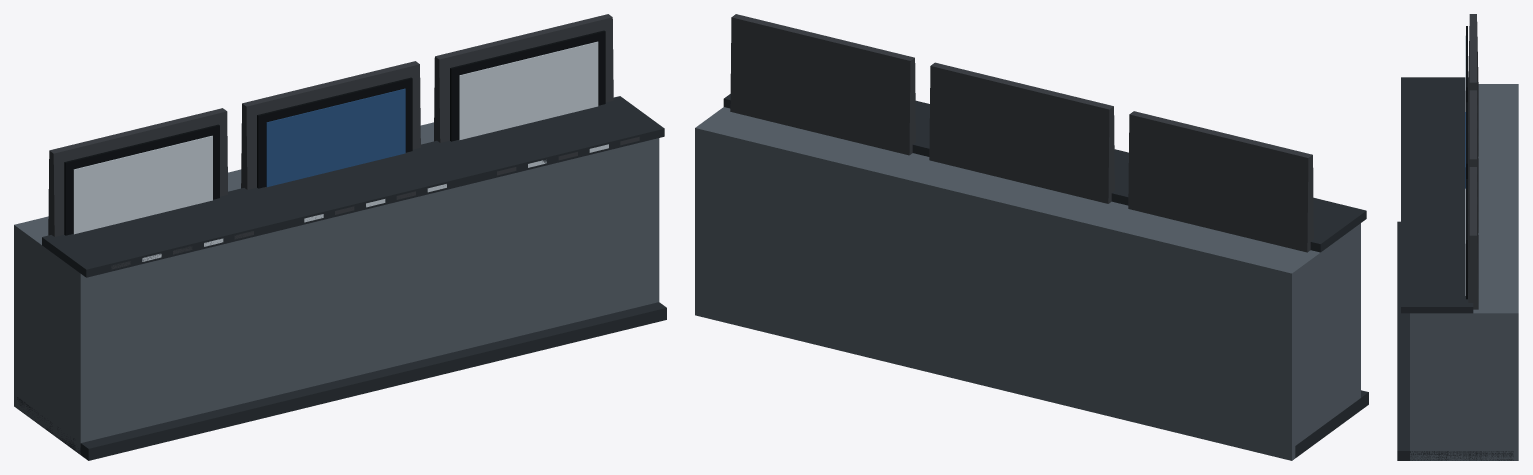
File: mandalorian_console_bank.glb
3 views of the same model, side by side, from view 1: azimuth 30°, elevation 25°; view 2: azimuth 150°, elevation 25°; view 3: azimuth 270°, elevation 25° (orthographic). The views are drawn at different scales.
Parts seen in each view (by area): view 1: mandalorian_console_bank; view 2: mandalorian_console_bank; view 3: mandalorian_console_bank.
Boxes of the visible parts, x1,y1,x2,y2 form: mandalorian_console_bank: [14, 14, 666, 460]; mandalorian_console_bank: [695, 14, 1368, 460]; mandalorian_console_bank: [1397, 14, 1518, 460].
Bounding box in the file's own units: 3 × 1.35 × 0.67.
